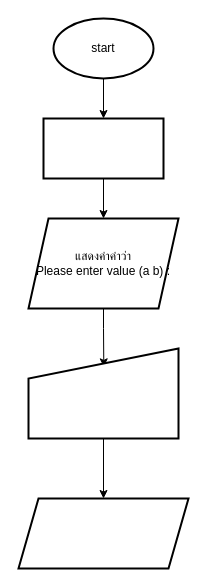
The diagram is 206 pixels wide and 586 high, and some of its shapes have lost their labels. The shapes that lost their labels are listed below. From the top down, each one's box as (x1, y1, x2, y2) in pixels, then its label:
(42, 117, 164, 179): กำหนดค่า a = 0 , b = 0
(27, 347, 179, 439): พิมพ์ตัวเลขที่ต้องการ 2ตัวเลข
